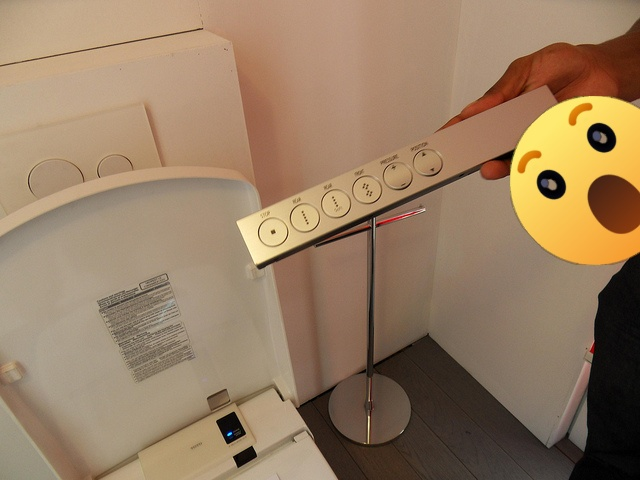wow: (510, 96, 640, 265)
